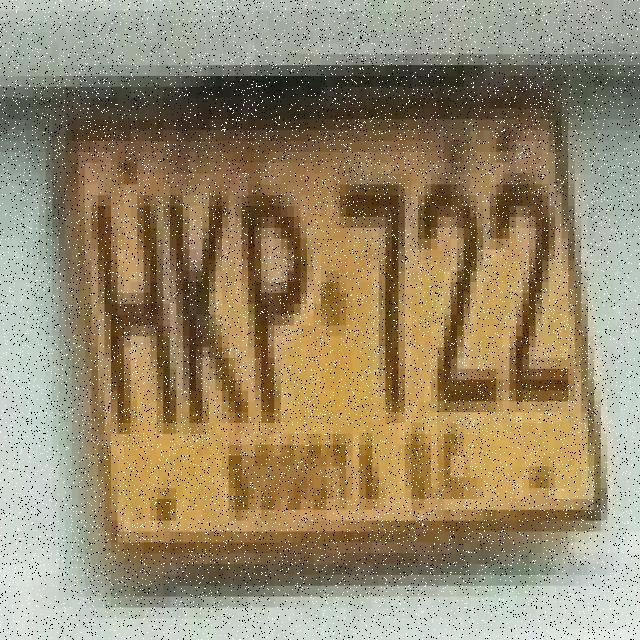LicensePlate: (40, 39, 622, 581)
